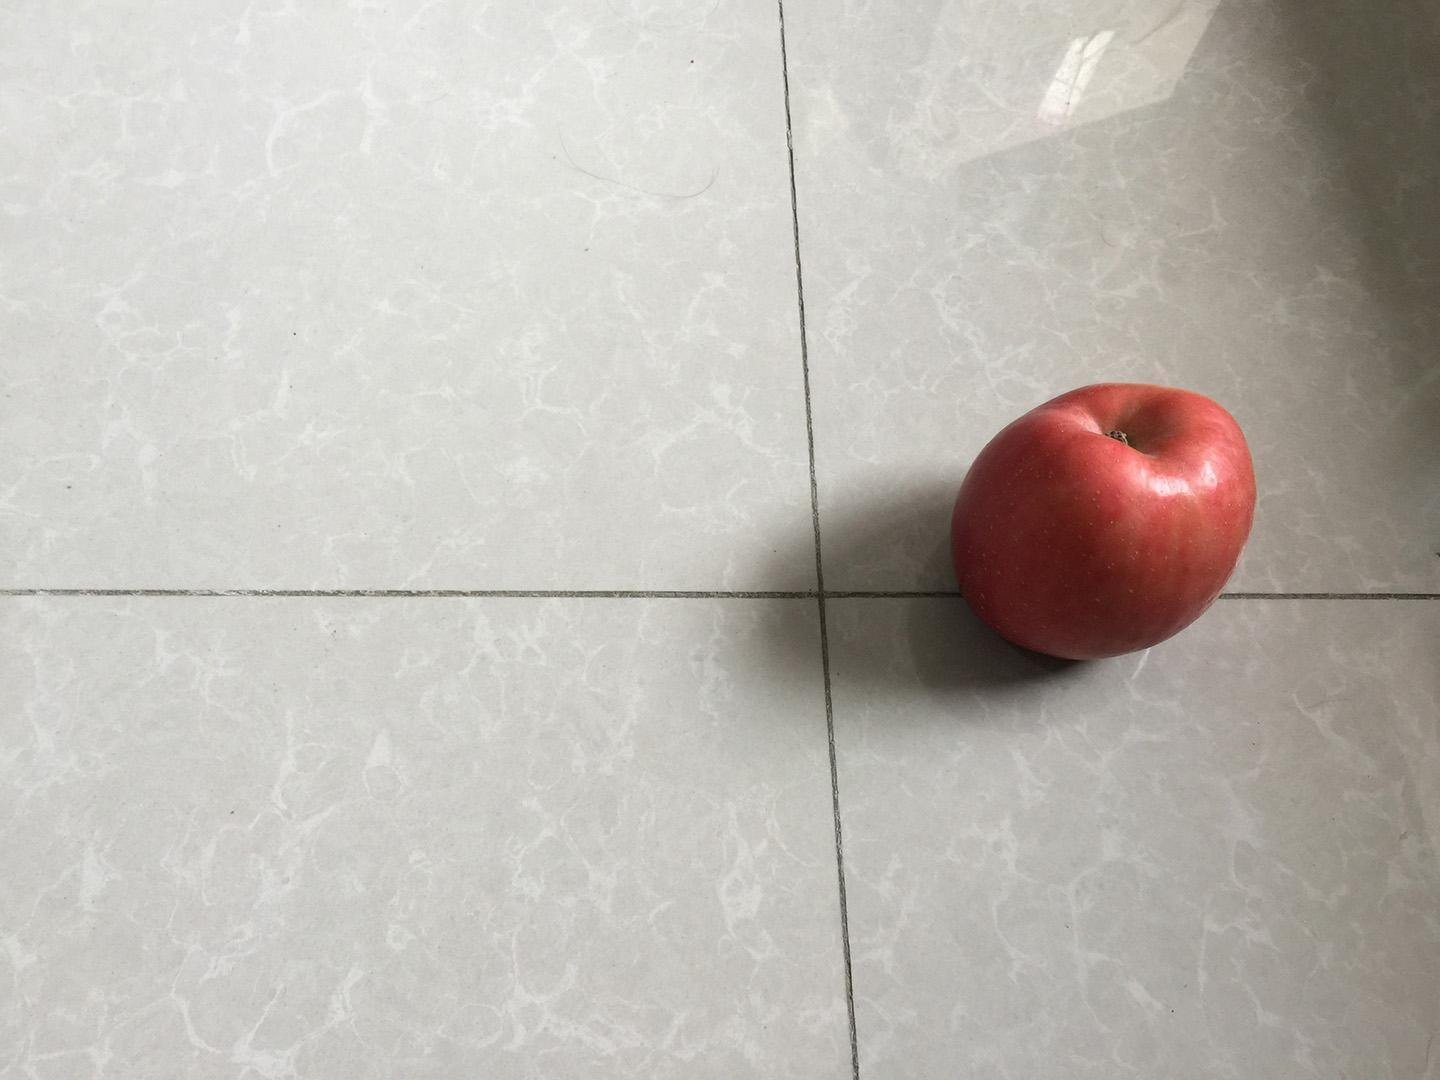apple: (945, 379, 1264, 665)
